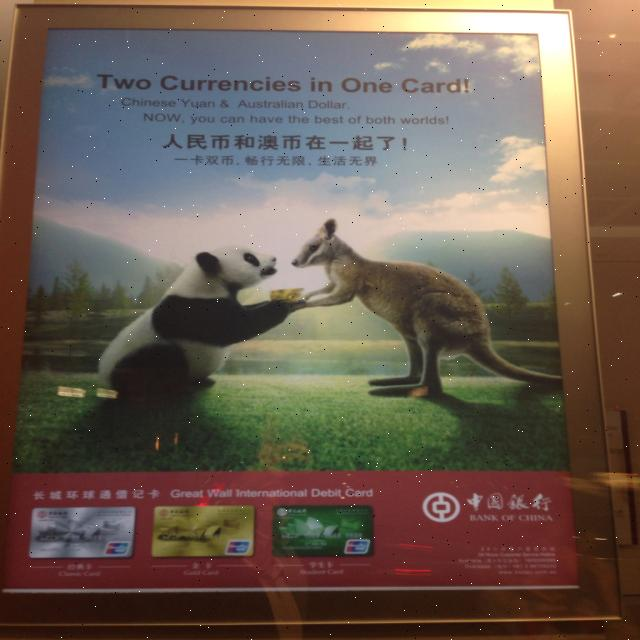panda: (95, 227, 299, 412)
